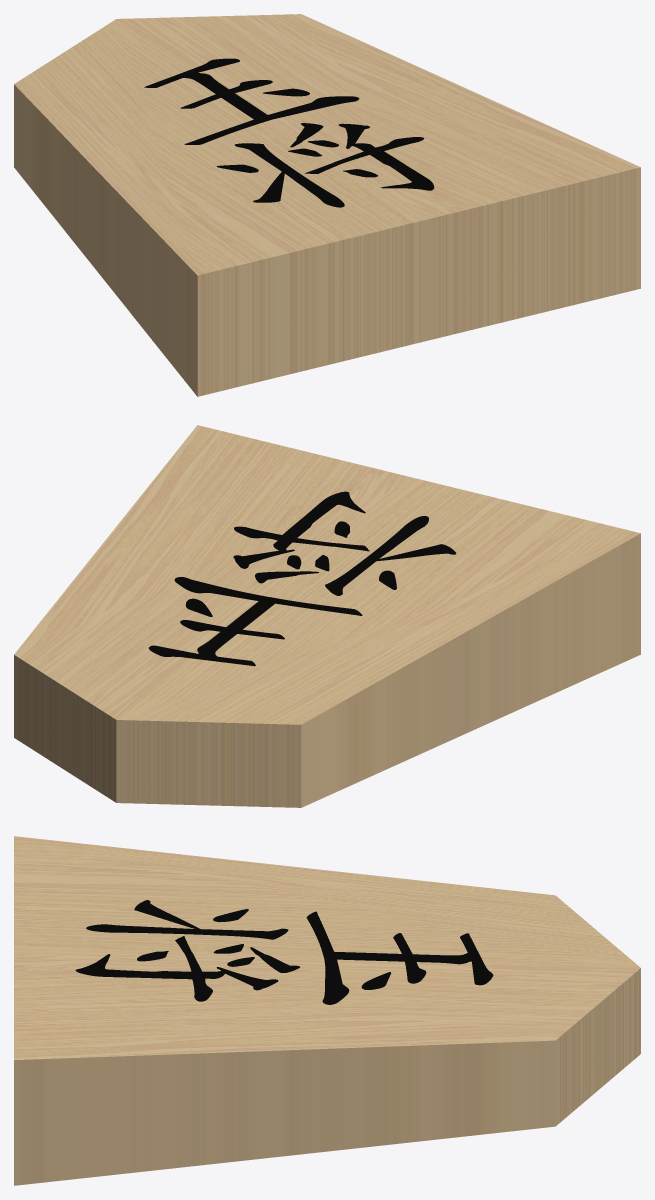
File: gyoku.fbx
3 views of the same model, one above another, from view 1: azimuth 30°, elevation 25°; view 2: azimuth 150°, elevation 25°; view 3: azimuth 270°, elevation 25° (orthographic). The views are drawn at different scales.
Parts seen in each view (by area): view 1: gyoku.001; view 2: gyoku.001; view 3: gyoku.001.
Boxes of the visible parts, x1,y1,x2,y2 form: gyoku.001: (14, 14, 640, 396); gyoku.001: (14, 425, 640, 807); gyoku.001: (14, 836, 640, 1185).
Size of the model in its own units: 456 by 119 by 540.
